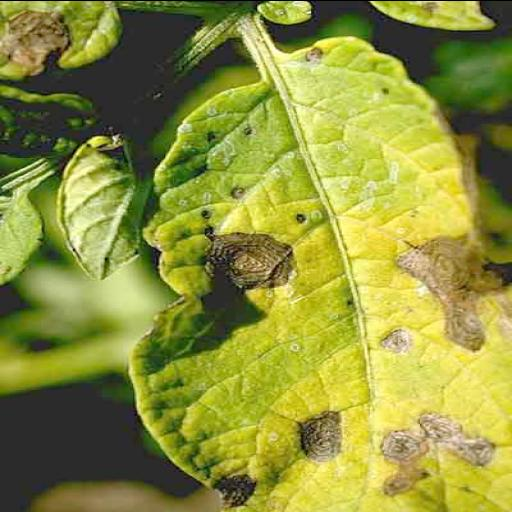Early Blight: (133, 31, 512, 512)
